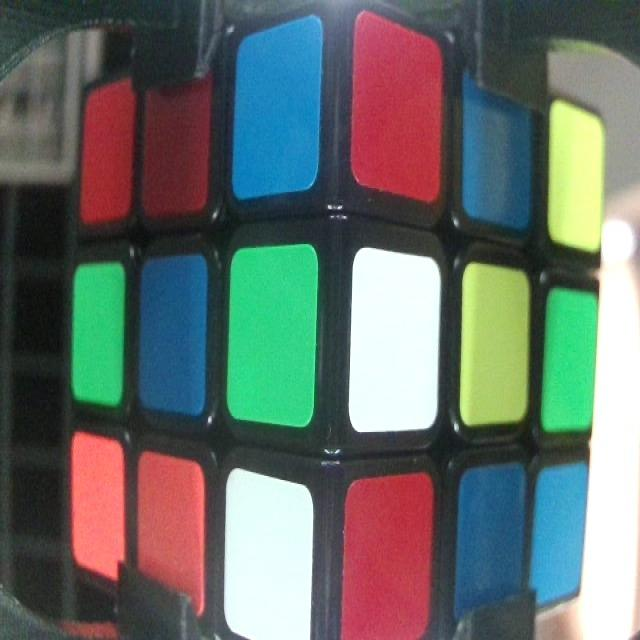b: (237, 37, 313, 191), (457, 466, 522, 616), (464, 74, 528, 225), (145, 260, 206, 414), (535, 467, 581, 599)
g: (229, 251, 313, 426), (547, 290, 601, 432), (76, 264, 120, 399)
o: (140, 452, 204, 614), (72, 434, 122, 570)
r: (354, 13, 440, 200), (347, 480, 428, 640), (146, 71, 211, 213), (83, 87, 132, 220)
w: (353, 249, 438, 420), (227, 476, 311, 638)
y: (465, 269, 531, 421), (552, 99, 604, 248)
